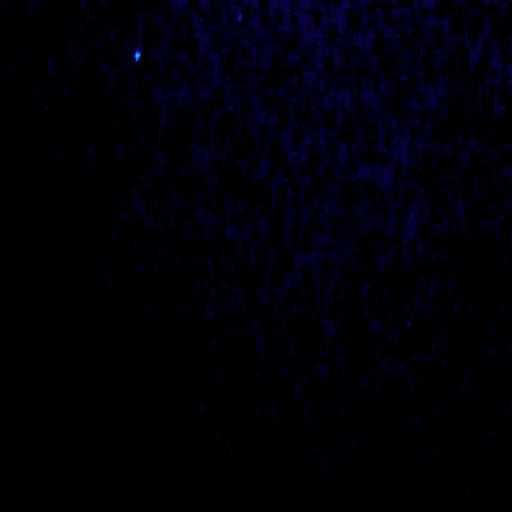object-detection-project: (134, 51, 141, 62)
